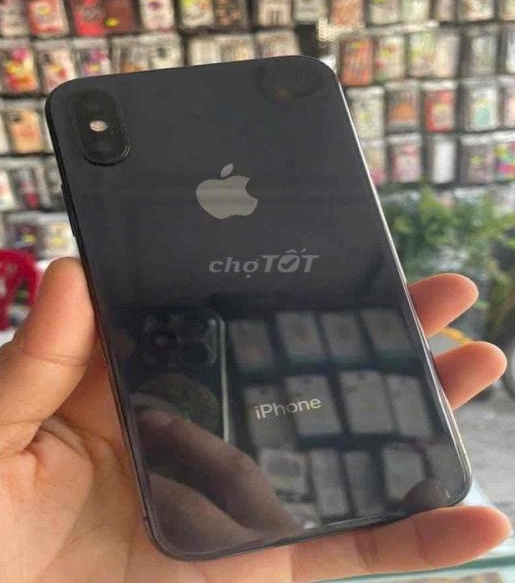scratch: (105, 97, 140, 144)
